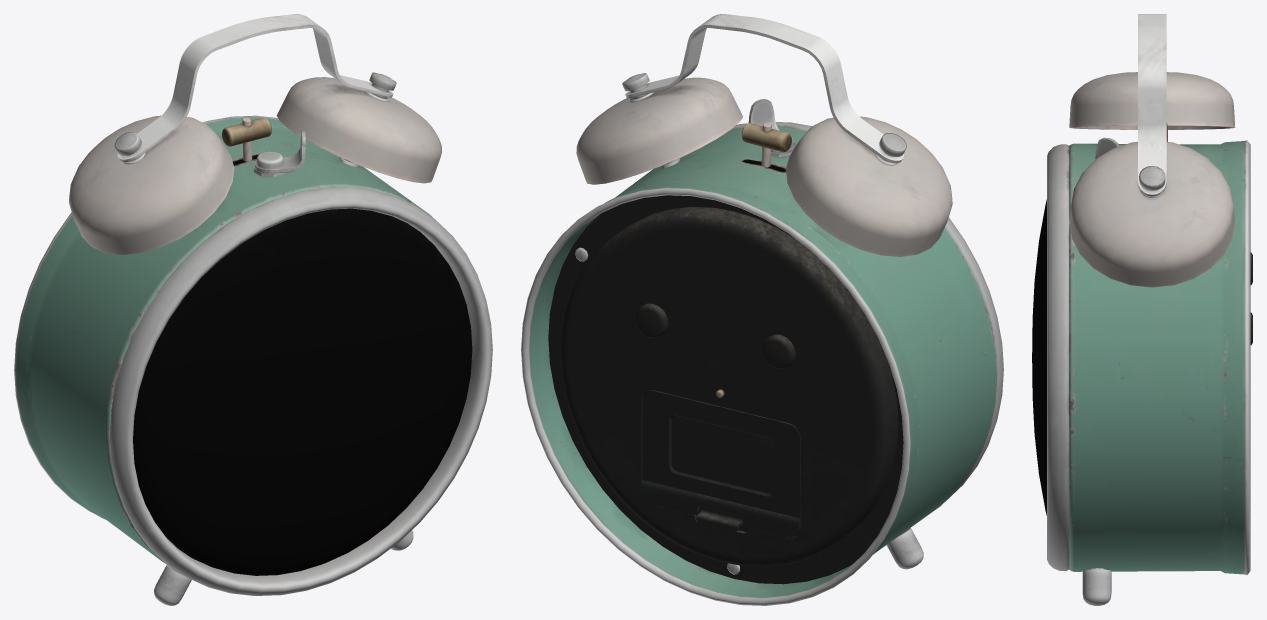
The model's file is alarm_clock_01.glb.
The picture shows the model from 3 angles, left to right: view 1: azimuth 30°, elevation 25°; view 2: azimuth 150°, elevation 25°; view 3: azimuth 270°, elevation 25°; orthographic projection. The views are drawn at different scales.
Parts seen in each view (by area): view 1: alarm_clock_01; view 2: alarm_clock_01; view 3: alarm_clock_01.
Boxes of the visible parts, x1,y1,x2,y2 form: alarm_clock_01: [14, 14, 492, 605]; alarm_clock_01: [521, 14, 1003, 605]; alarm_clock_01: [1032, 14, 1252, 605].
Bounding box in the file's own units: 0.1317 × 0.1742 × 0.0667.
Materials: 2 (2 with a texture image).
